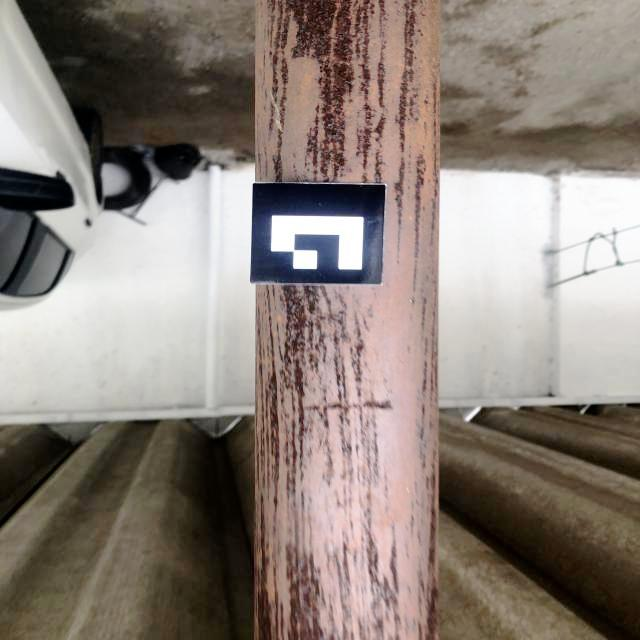Corrosion: (254, 0, 441, 640)
